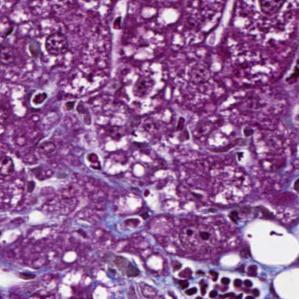inflammation: (11, 76, 55, 121)
